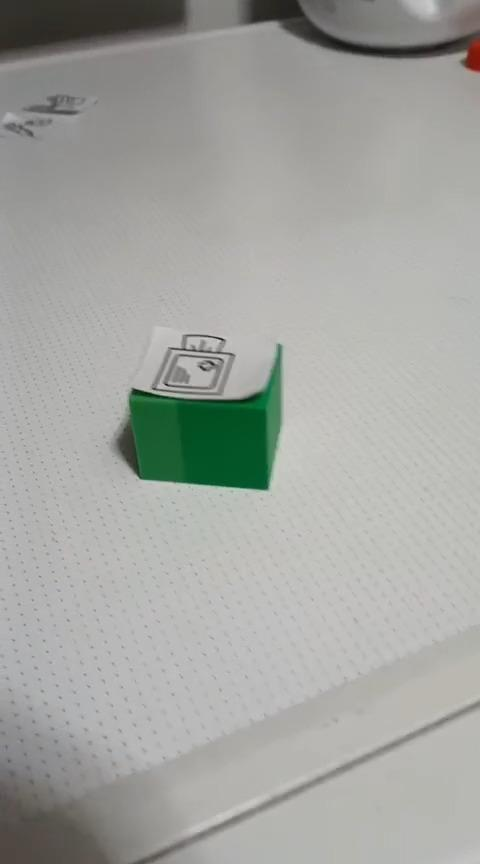Gauze: (127, 324, 284, 491)
